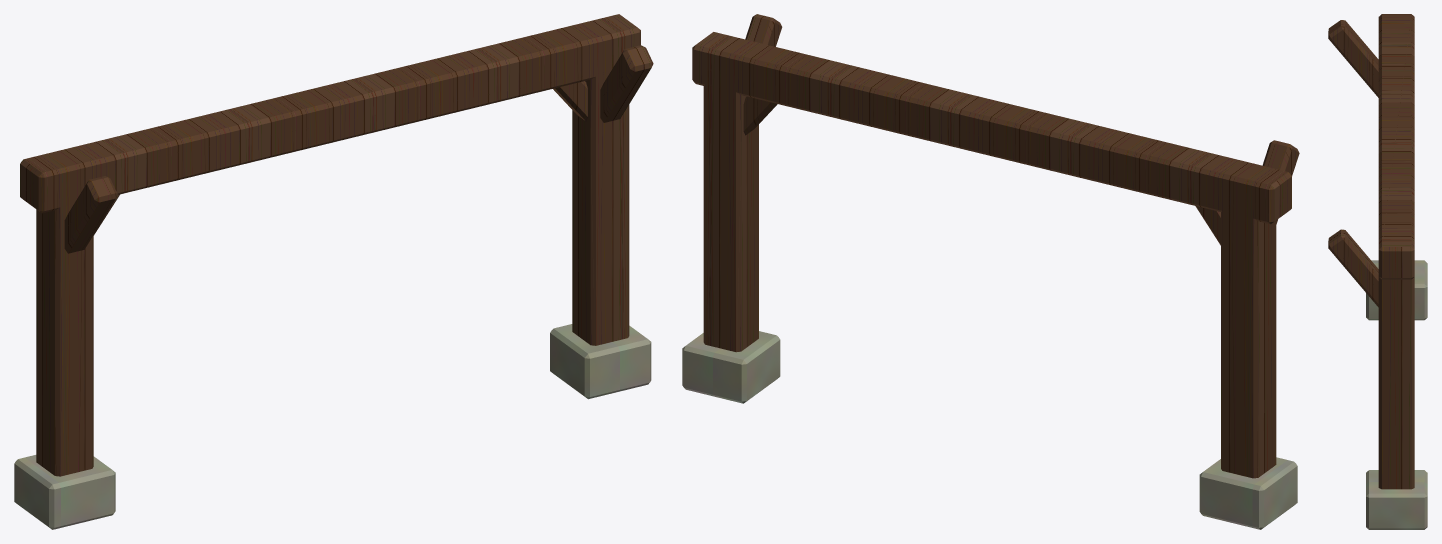
The model's file is SM_HH_V2_Timber_Porch.fbx.
3 views of the same model, side by side, from view 1: azimuth 30°, elevation 25°; view 2: azimuth 150°, elevation 25°; view 3: azimuth 270°, elevation 25° (orthographic). The views are drawn at different scales.
Visible parts, largest first — view 1: HH_V2_Timber_Porch; view 2: HH_V2_Timber_Porch; view 3: HH_V2_Timber_Porch.
Boxes of the visible parts, x1,y1,x2,y2 form: HH_V2_Timber_Porch: (14, 14, 653, 529); HH_V2_Timber_Porch: (682, 14, 1299, 529); HH_V2_Timber_Porch: (1328, 14, 1427, 529).
Size of the model in its own units: 0.6911 by 3.9 by 2.19.
